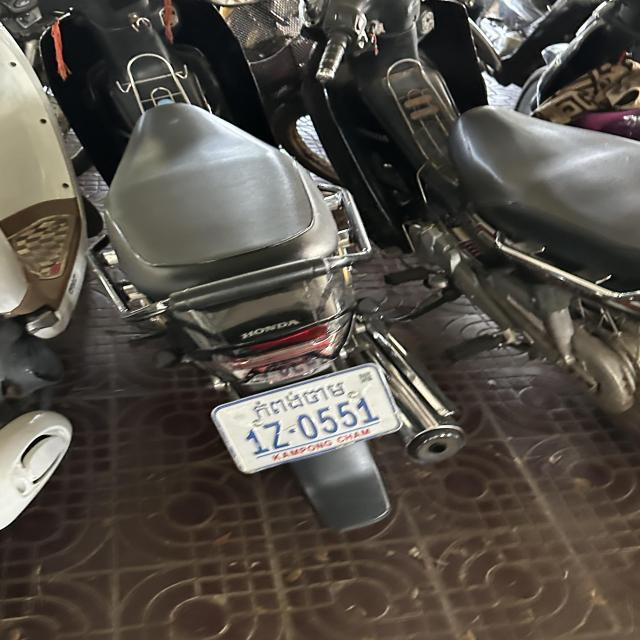Kampong_Cham: (252, 381, 346, 421)
